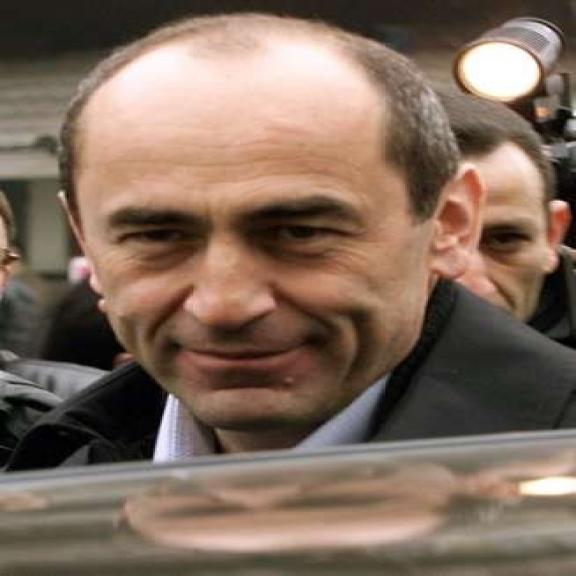face: (58, 68, 490, 439), (440, 127, 573, 330)
